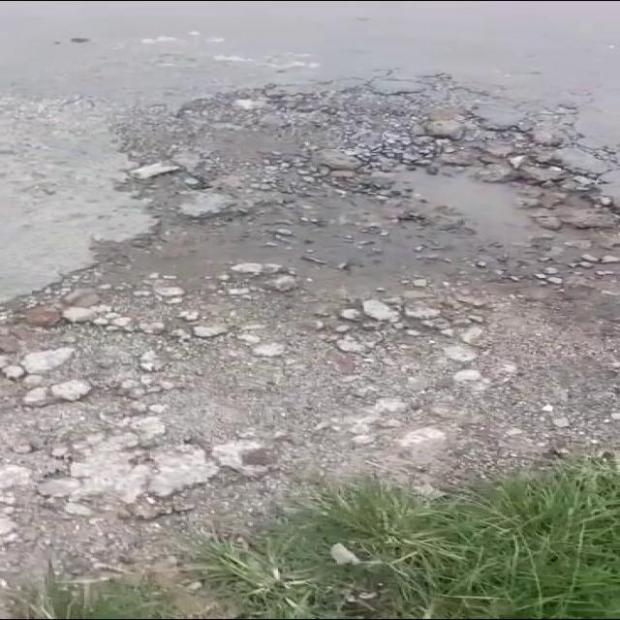lubang: (0, 88, 619, 521)
